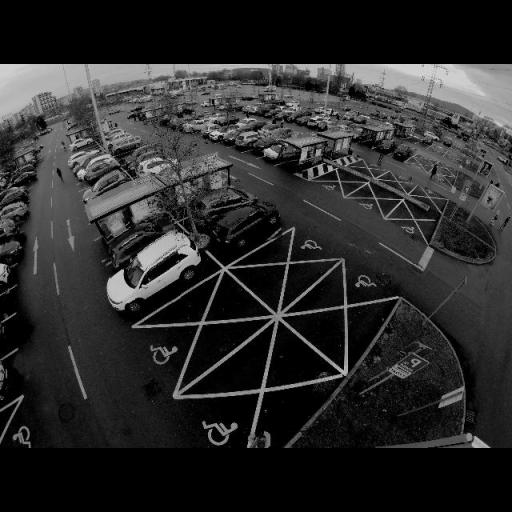busy: (109, 235, 206, 303), (101, 214, 177, 269), (212, 203, 282, 248), (196, 189, 252, 217), (89, 171, 132, 199), (249, 129, 285, 156), (126, 146, 168, 168), (264, 140, 302, 164), (1, 234, 26, 267), (81, 159, 119, 180), (180, 110, 212, 134), (0, 199, 28, 225), (227, 126, 258, 146), (202, 117, 230, 139), (112, 133, 140, 153), (237, 129, 265, 149), (0, 258, 15, 290), (10, 171, 36, 189), (158, 112, 182, 128), (392, 146, 413, 160), (352, 129, 373, 143), (306, 116, 328, 129), (284, 109, 303, 123), (294, 113, 311, 127), (420, 134, 434, 144)
